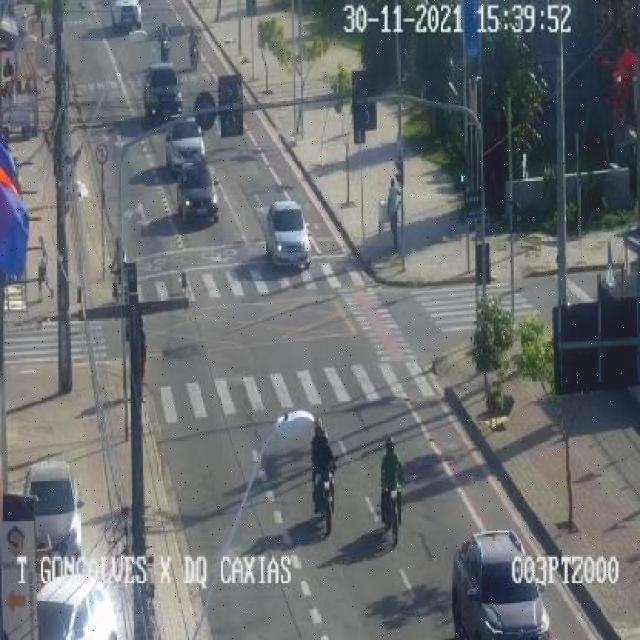Car: (23, 461, 87, 563), (34, 571, 122, 640), (265, 197, 309, 269), (177, 157, 218, 224), (165, 113, 206, 174), (142, 63, 184, 119)
Cycle: (308, 464, 336, 539), (379, 478, 402, 546), (157, 34, 174, 61), (190, 44, 200, 69)
Truck: (449, 530, 549, 640)
